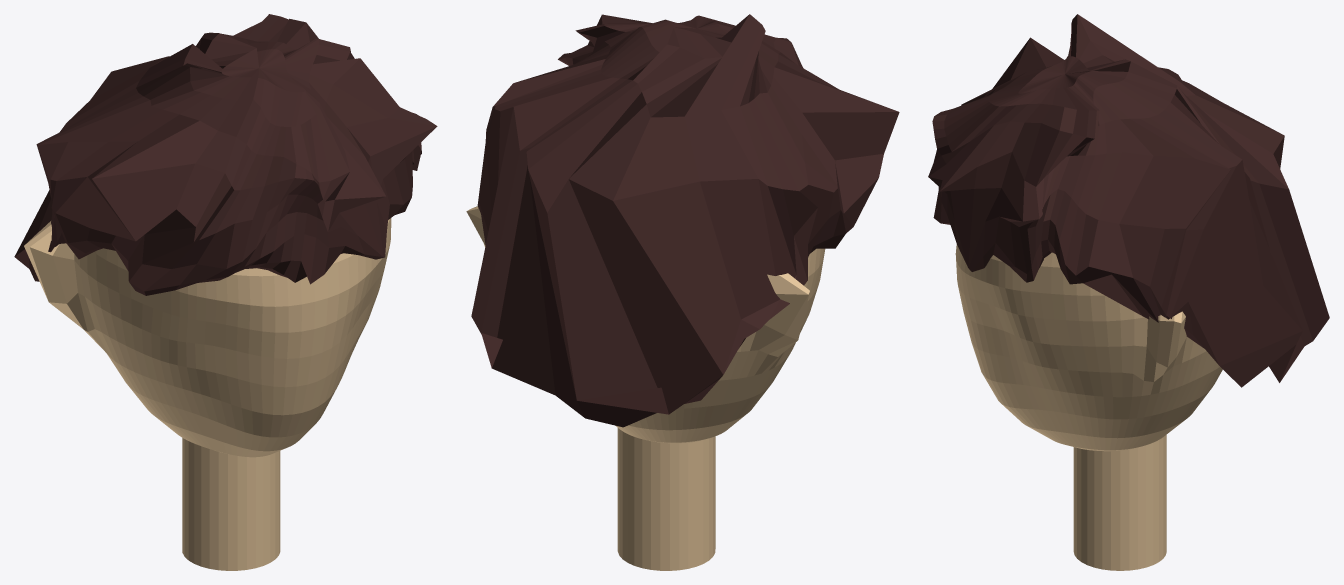
Rendered from jackhair 1.fbx.
3 renders of one model, left to right at view 1: azimuth 30°, elevation 25°; view 2: azimuth 150°, elevation 25°; view 3: azimuth 270°, elevation 25°, orthographic. The views are drawn at different scales.
Parts seen in each view (by area): view 1: 실린더; view 2: 실린더; view 3: 실린더.
Boxes of the visible parts, box(x1,y1,x2,y2) form: 실린더: box(14, 14, 437, 570); 실린더: box(466, 14, 899, 570); 실린더: box(928, 14, 1329, 570).
Size of the model in its own units: 185 by 264 by 189.
